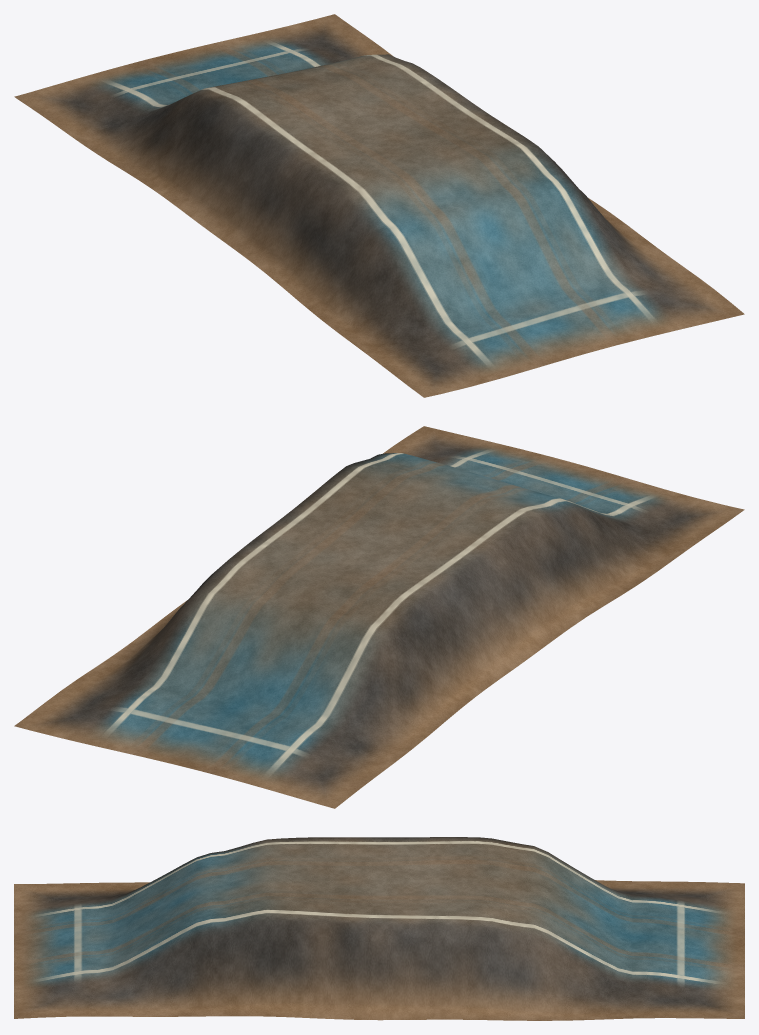
Rendered from NorthTabletop.obj.
3 views of the same model, one above another, from view 1: azimuth 30°, elevation 25°; view 2: azimuth 150°, elevation 25°; view 3: azimuth 270°, elevation 25° (orthographic). The views are drawn at different scales.
Parts seen in each view (by area): view 1: NorthTabletop; view 2: NorthTabletop; view 3: NorthTabletop.
Part boxes in pixels (x1,y1,x2,y2): NorthTabletop: (14, 14, 744, 397); NorthTabletop: (14, 426, 744, 808); NorthTabletop: (14, 837, 744, 1020).
Bounding box in the file's own units: 12.2 × 3.2 × 27.
Materials: 1 (1 with a texture image).
